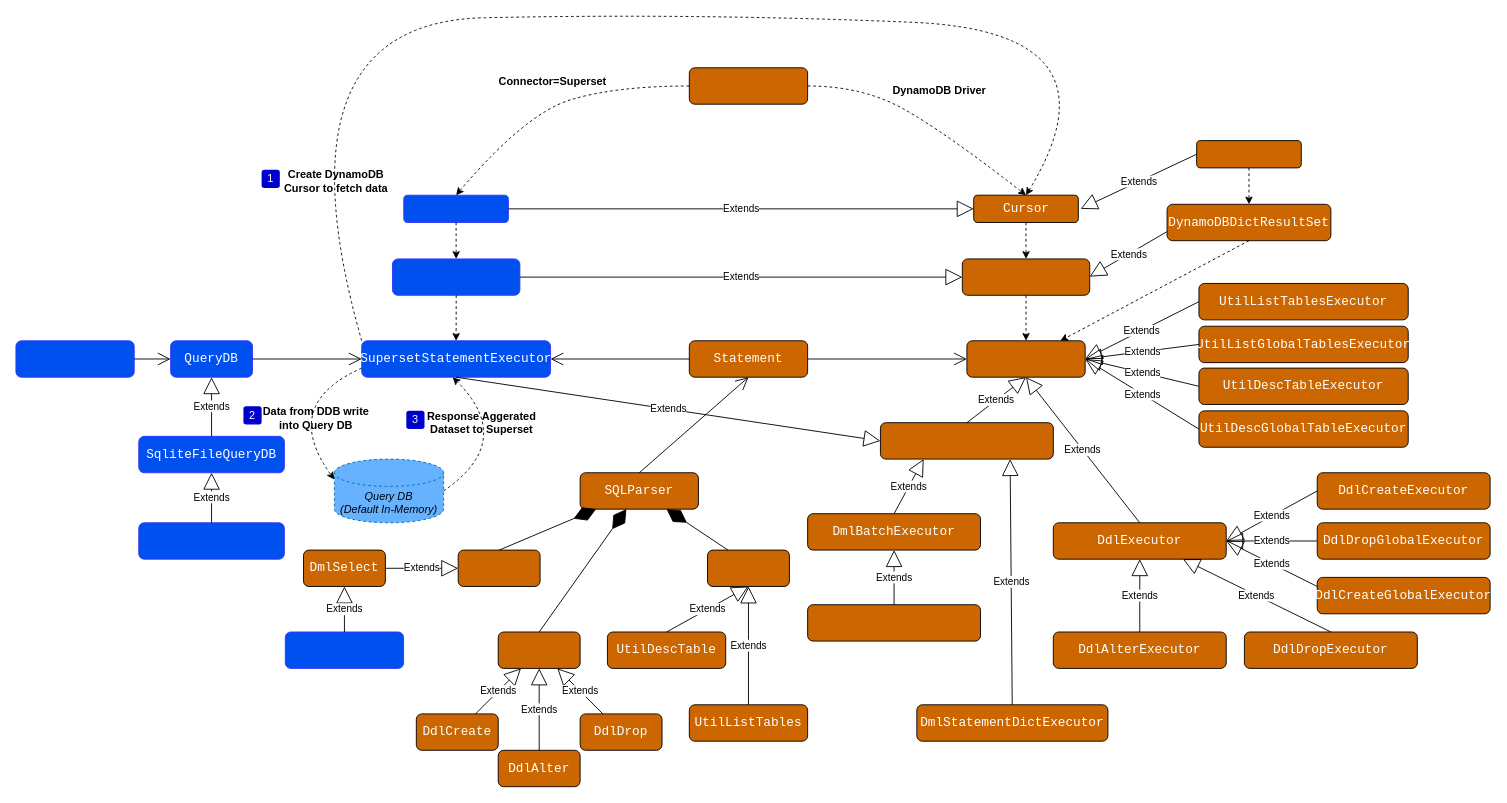
This 1507x803 diagram has some shape labels left out. The shapes that lost their labels are listed below. From the top down, each one's box as (x1, y1, x2, y2) in pixels, then its label:
(688, 67, 808, 104): Connection
(1196, 140, 1301, 168): DictCursor
(403, 194, 508, 222): SupersetCursor
(392, 258, 520, 295): SupersetResultSet
(961, 258, 1090, 295): DynamoDBResultSet
(15, 340, 134, 377): QueryDBConfig
(966, 340, 1085, 377): Executor
(880, 422, 1053, 459): DmlStatementExecutor
(138, 522, 284, 559): SqliteMemQueryDB
(457, 549, 540, 586): DmlBase
(707, 549, 789, 586): UtilBase
(807, 604, 981, 641): DmlTransactionExecutor
(284, 631, 404, 668): SupersetSelect
(497, 631, 580, 668): DdlBase
